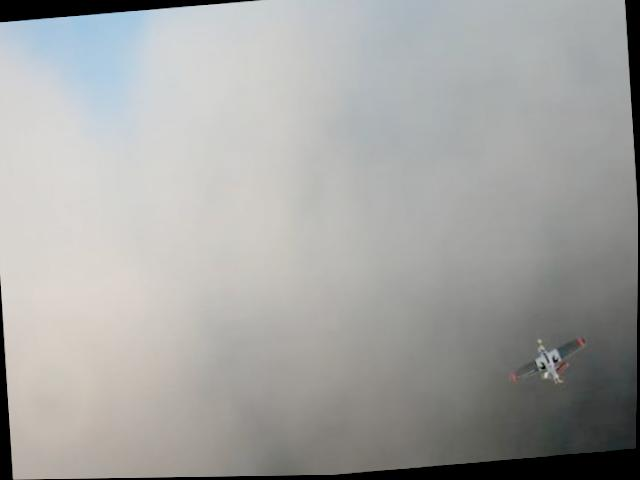iha: (506, 323, 593, 394)
